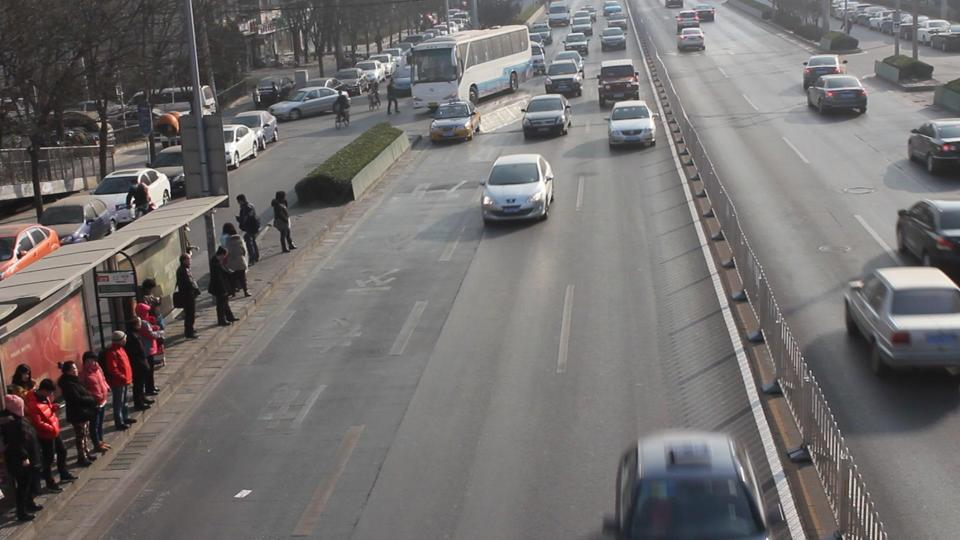Bus: (411, 26, 534, 112)
Car: (619, 431, 771, 540), (848, 267, 960, 378), (483, 154, 554, 224), (898, 198, 960, 276), (909, 117, 960, 175), (807, 73, 869, 117), (608, 100, 659, 151), (522, 93, 573, 139), (431, 100, 483, 142), (599, 59, 640, 108), (803, 54, 849, 90), (545, 59, 582, 99), (677, 26, 706, 53)
